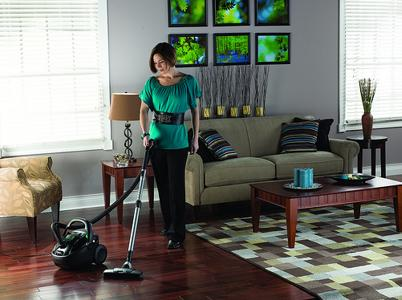person: (139, 41, 201, 249)
